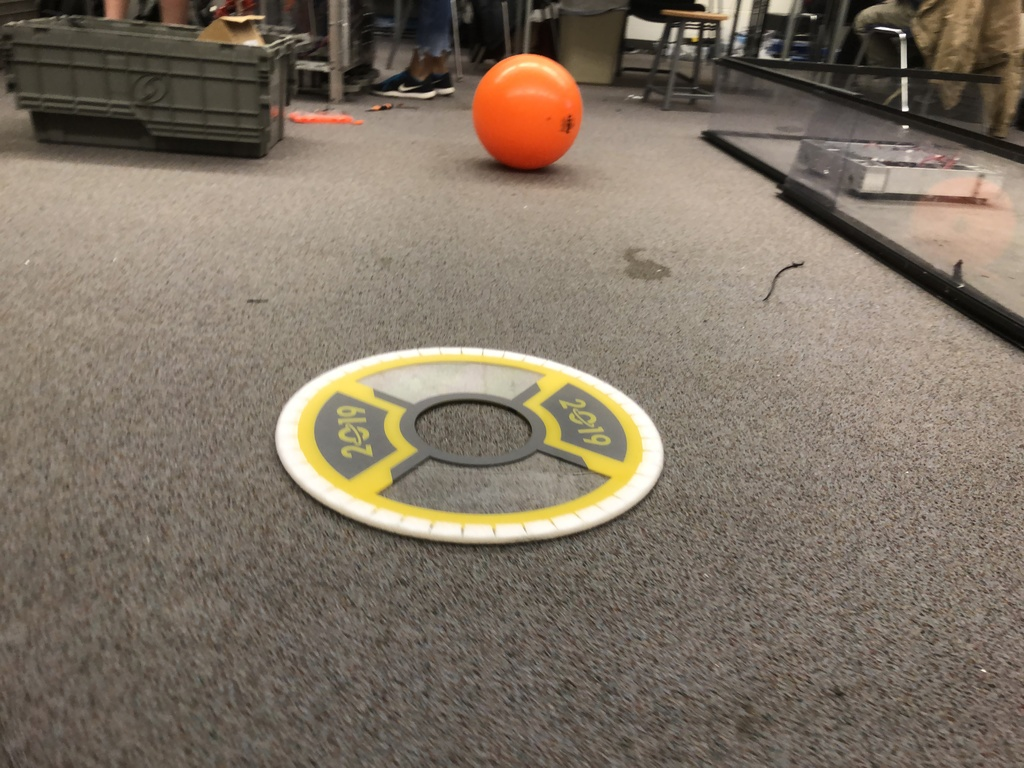hatch_panel: (248, 334, 699, 550)
